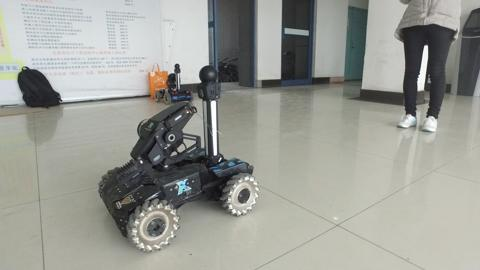bag: (11, 60, 71, 117)
chariot: (93, 62, 263, 253), (152, 64, 198, 110)
